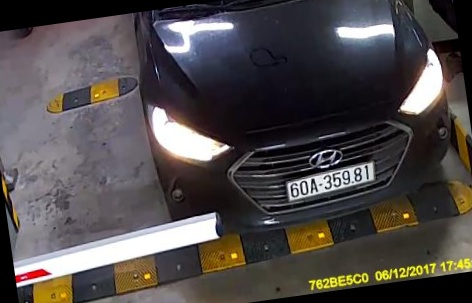plate: (279, 161, 385, 200)
